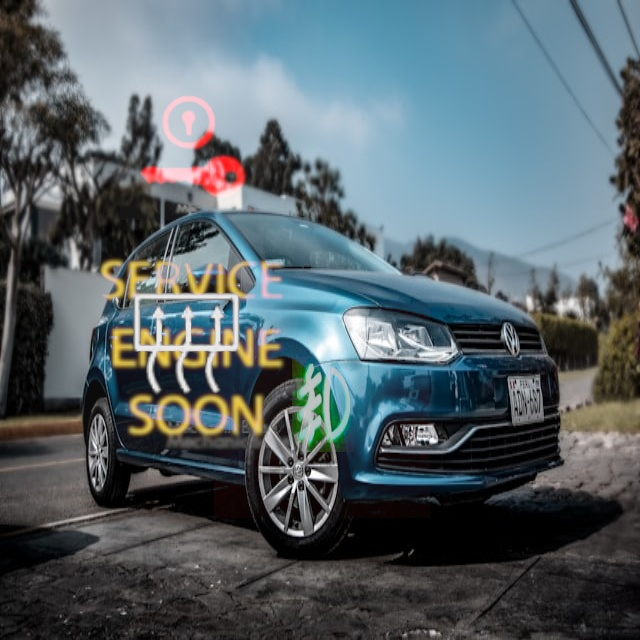symbol: (82, 242, 299, 459), (214, 302, 430, 518), (90, 248, 285, 443), (120, 75, 265, 220)
